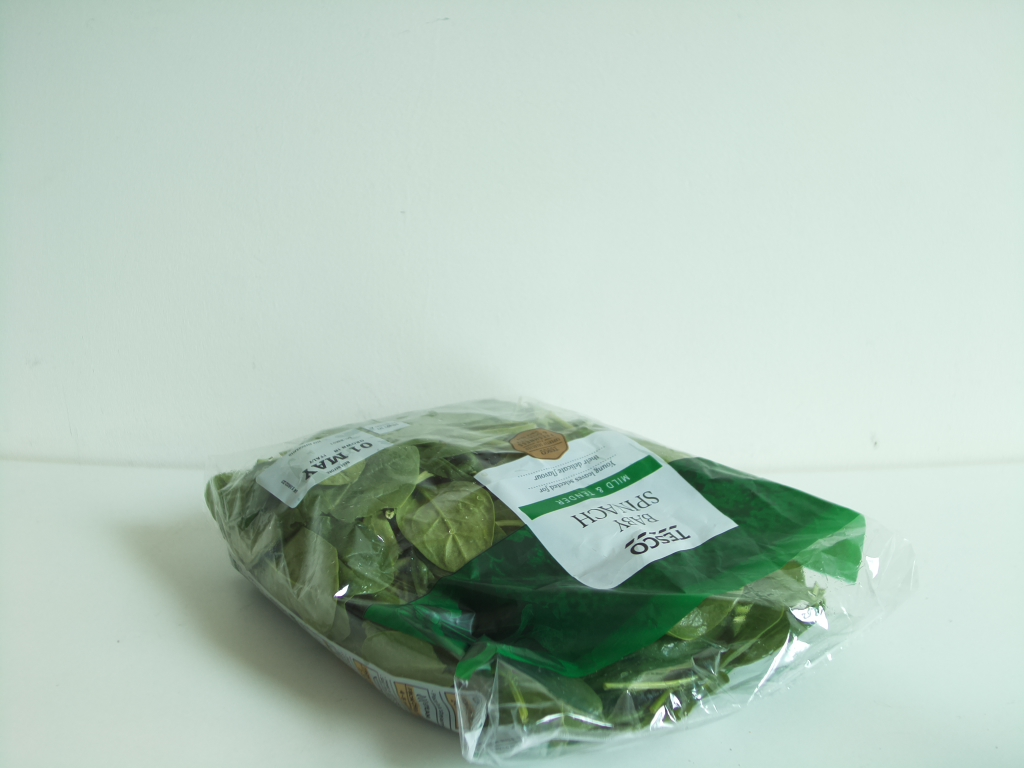salad: (210, 396, 908, 763)
